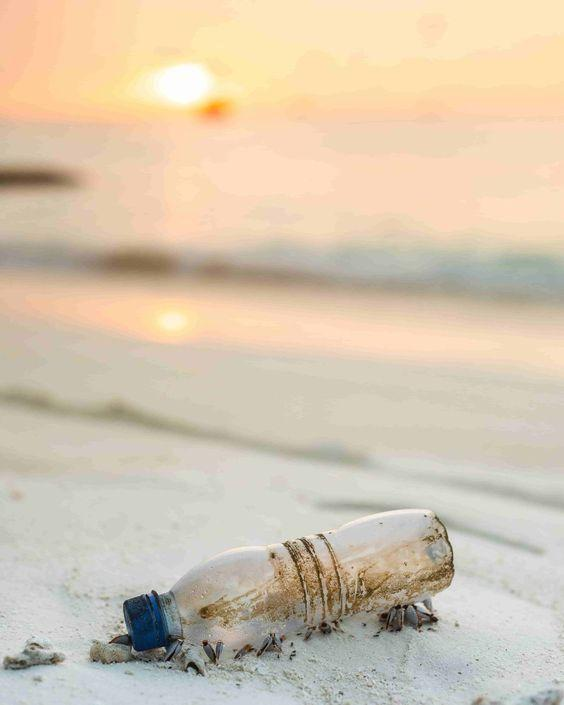HDPE: (122, 589, 172, 653)
PETE: (163, 509, 457, 647)
